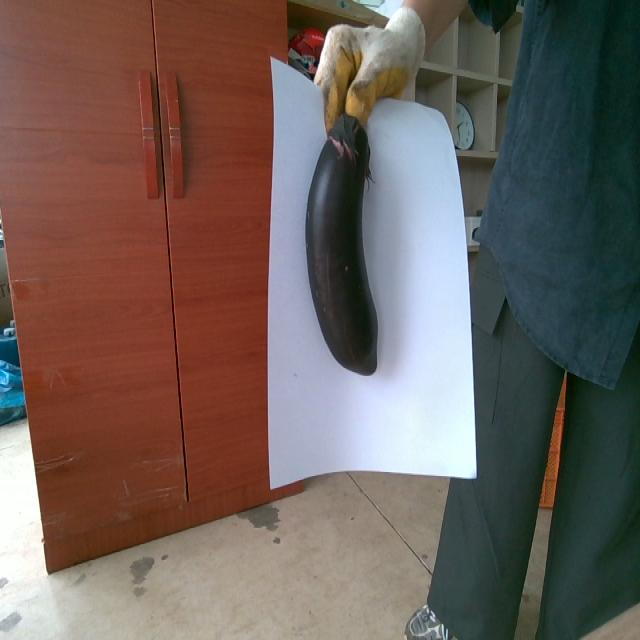Egg plant: (305, 113, 377, 375)
